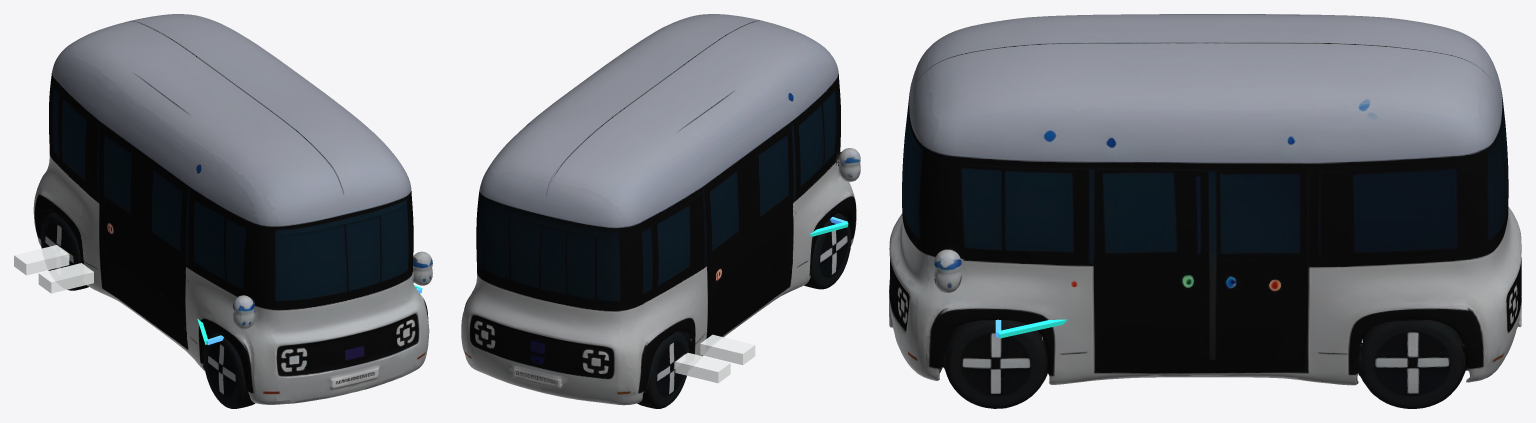
File: roii_reconfig.glb
The picture shows the model from 3 angles, left to right: view 1: azimuth 30°, elevation 25°; view 2: azimuth 150°, elevation 25°; view 3: azimuth 270°, elevation 25°; orthographic projection. The views are drawn at different scales.
Visible parts, largest first — view 1: textured_meshobj, object 6, object 7; view 2: textured_meshobj, object 7, object 6; view 3: textured_meshobj.
Part boxes in pixels (x1,y1,x2,y2): textured_meshobj: (33, 14, 432, 408); object 6: (38, 263, 93, 293); object 7: (14, 245, 69, 275); textured_meshobj: (461, 14, 860, 408); object 7: (675, 353, 730, 383); object 6: (700, 334, 755, 364); textured_meshobj: (889, 14, 1521, 408).
Bounding box in the file's own units: 23.2 × 21.74 × 40.
84 materials, 1 textured.
